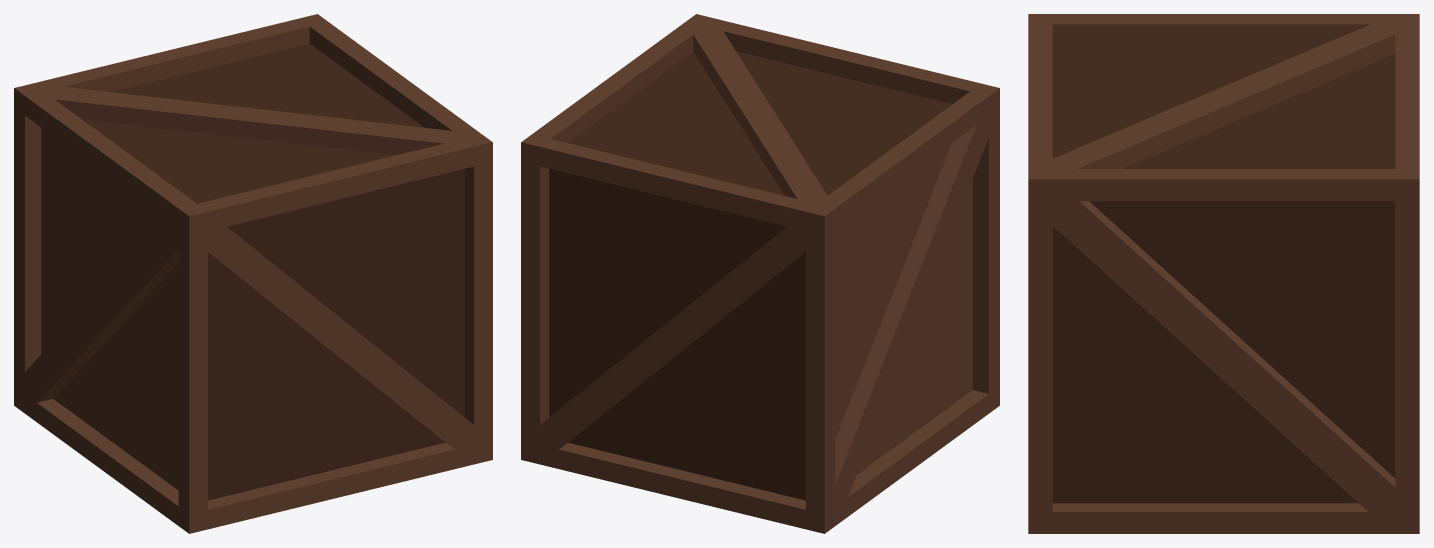
The model's file is crate.fbx.
3 views of the same model, side by side, from view 1: azimuth 30°, elevation 25°; view 2: azimuth 150°, elevation 25°; view 3: azimuth 270°, elevation 25° (orthographic). The views are drawn at different scales.
Visible parts, largest first — view 1: Cube.005; view 2: Cube.005; view 3: Cube.005.
Boxes of the visible parts, x1=… form: Cube.005: x1=14, y1=14, x2=492, y2=533; Cube.005: x1=521, y1=14, x2=999, y2=533; Cube.005: x1=1028, y1=14, x2=1419, y2=533.
Bounding box in the file's own units: 150 × 150 × 150.
